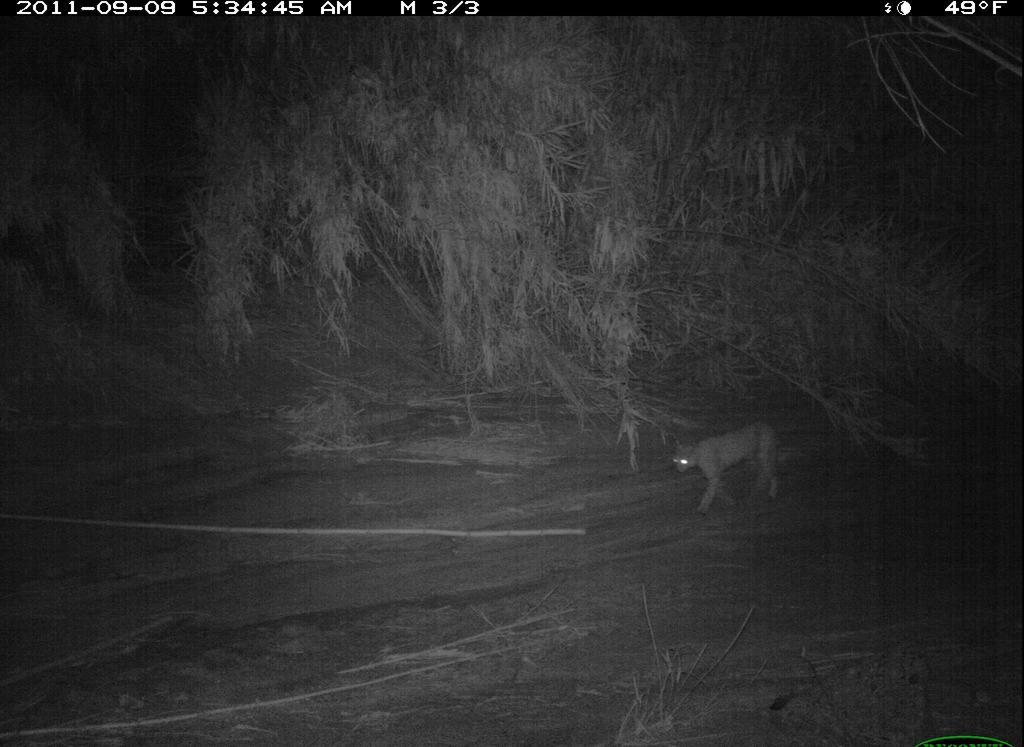bobcat: (667, 413, 806, 524)
